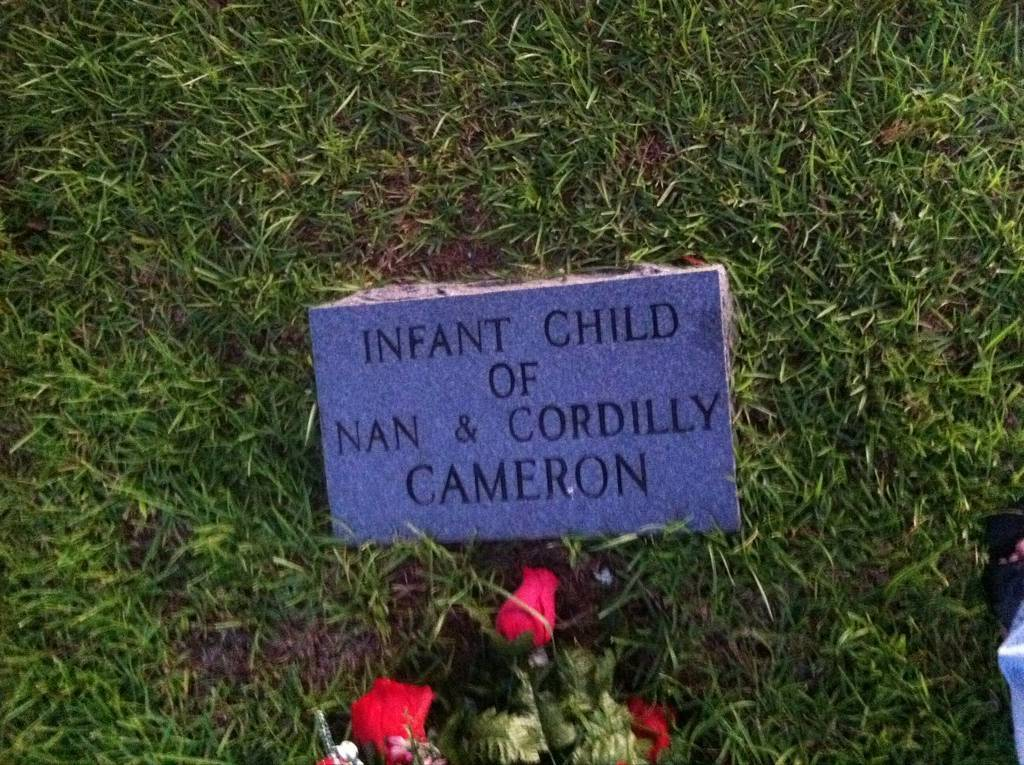flat: (297, 270, 760, 559)
